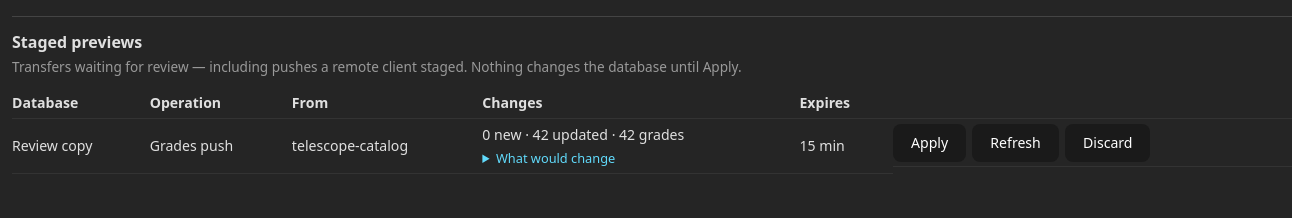
Test: RemoteSyncPreviews › surfaces an apply failure without dropping the row
Click the button "Apply": [930, 143] box [893, 124, 966, 162]
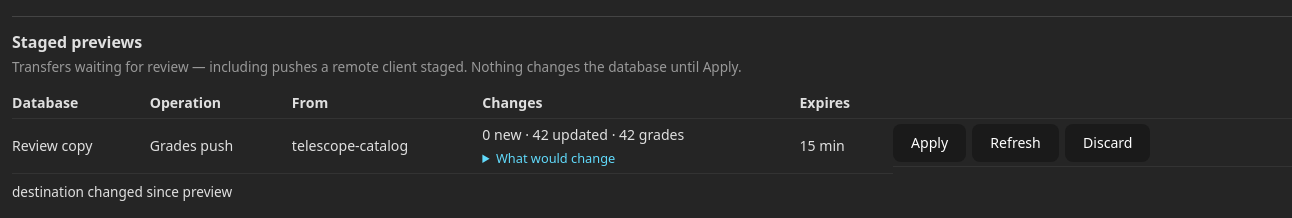
Expected: the text "Grades push" is shown, [150, 118, 292, 173]
Expected: the text "destination changed since preview" is shown, [12, 182, 232, 201]
